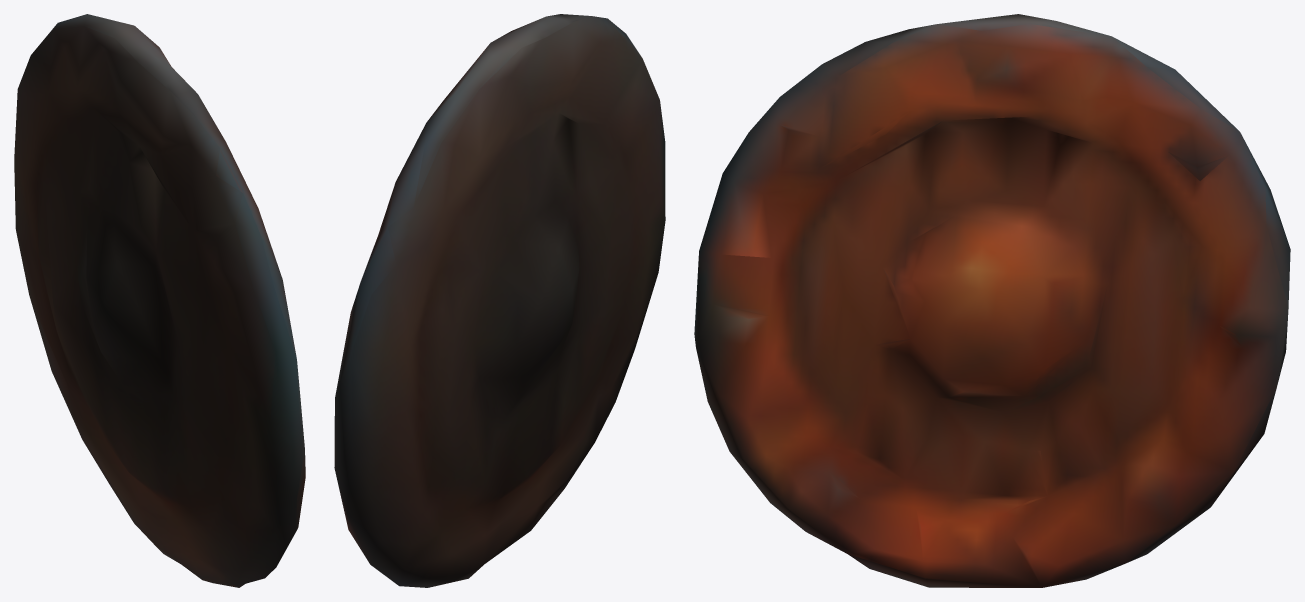
File: shield_copper.glb
3 views of the same model, side by side, from view 1: azimuth 30°, elevation 25°; view 2: azimuth 150°, elevation 25°; view 3: azimuth 270°, elevation 25° (orthographic). The views are drawn at different scales.
Parts seen in each view (by area): view 1: model; view 2: model; view 3: model.
Boxes of the visible parts, box(x1,y1,x2,y2) form: model: box(14, 14, 305, 587); model: box(334, 14, 665, 587); model: box(694, 14, 1290, 587).
Bounding box in the file's own units: 0.137 × 0.6972 × 0.6837.
1 material, 1 textured.
